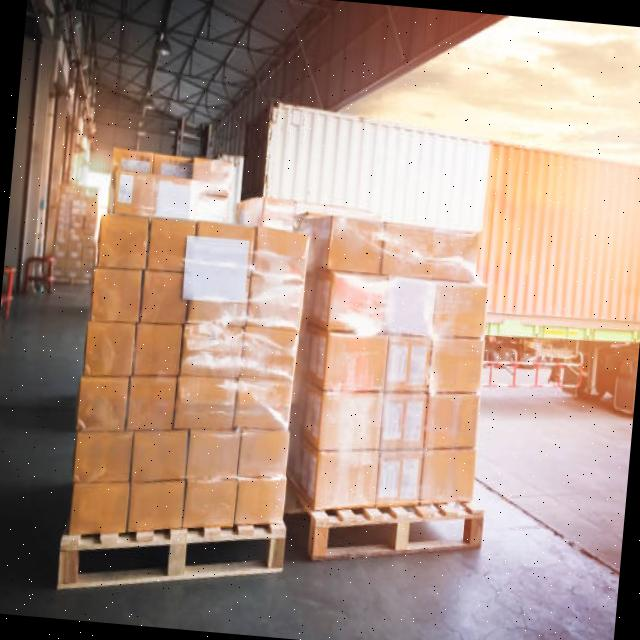Wooden-Pallets: (55, 502, 491, 592), (54, 516, 293, 593), (304, 500, 490, 566)
